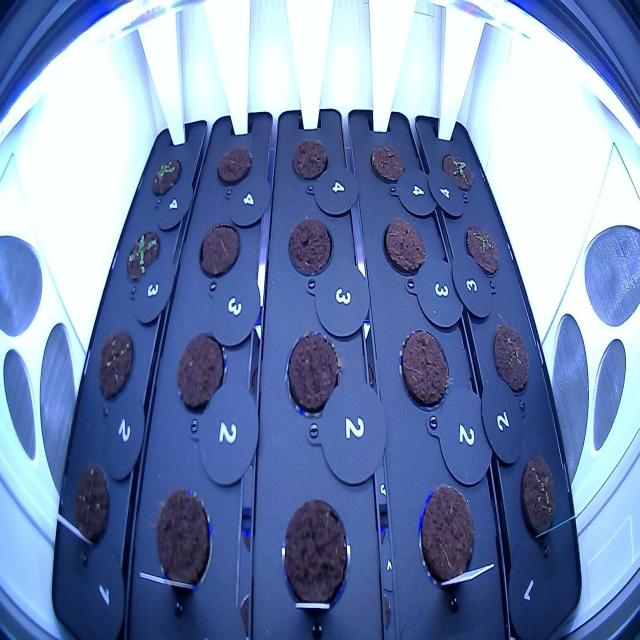germination: (516, 448, 560, 558), (462, 214, 504, 281), (120, 225, 163, 287), (438, 142, 477, 197), (148, 151, 184, 204)
pod: (270, 492, 355, 632), (152, 474, 217, 605), (414, 481, 478, 597), (279, 325, 345, 425), (395, 322, 454, 419), (172, 326, 227, 418), (70, 456, 114, 554), (488, 319, 537, 400), (284, 213, 337, 287), (378, 211, 431, 280), (193, 215, 244, 285), (94, 326, 138, 406), (288, 132, 332, 189), (366, 138, 411, 192), (213, 142, 256, 194)
